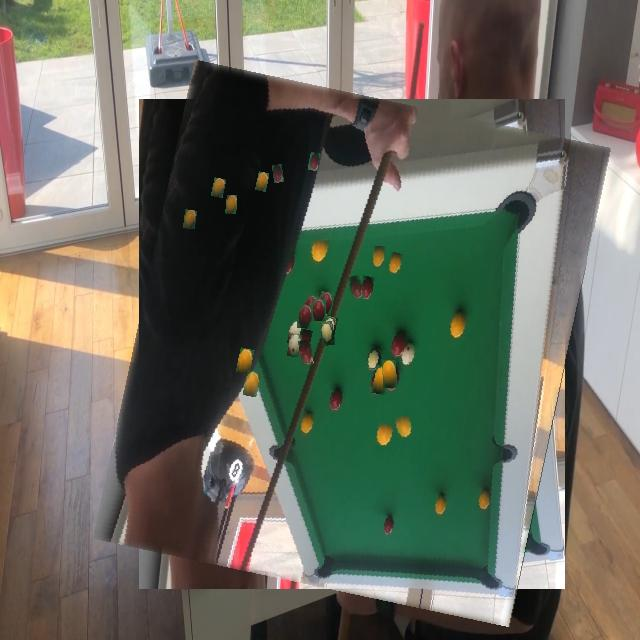Ball: (382, 360, 397, 388), (244, 371, 260, 396), (395, 416, 412, 439), (320, 322, 335, 346), (299, 340, 313, 365), (298, 305, 312, 329), (288, 334, 302, 357), (349, 275, 363, 298), (312, 299, 326, 321), (372, 246, 386, 267), (184, 210, 196, 229), (226, 195, 237, 214), (273, 165, 284, 183)
Billiard table: (116, 80, 588, 608)
